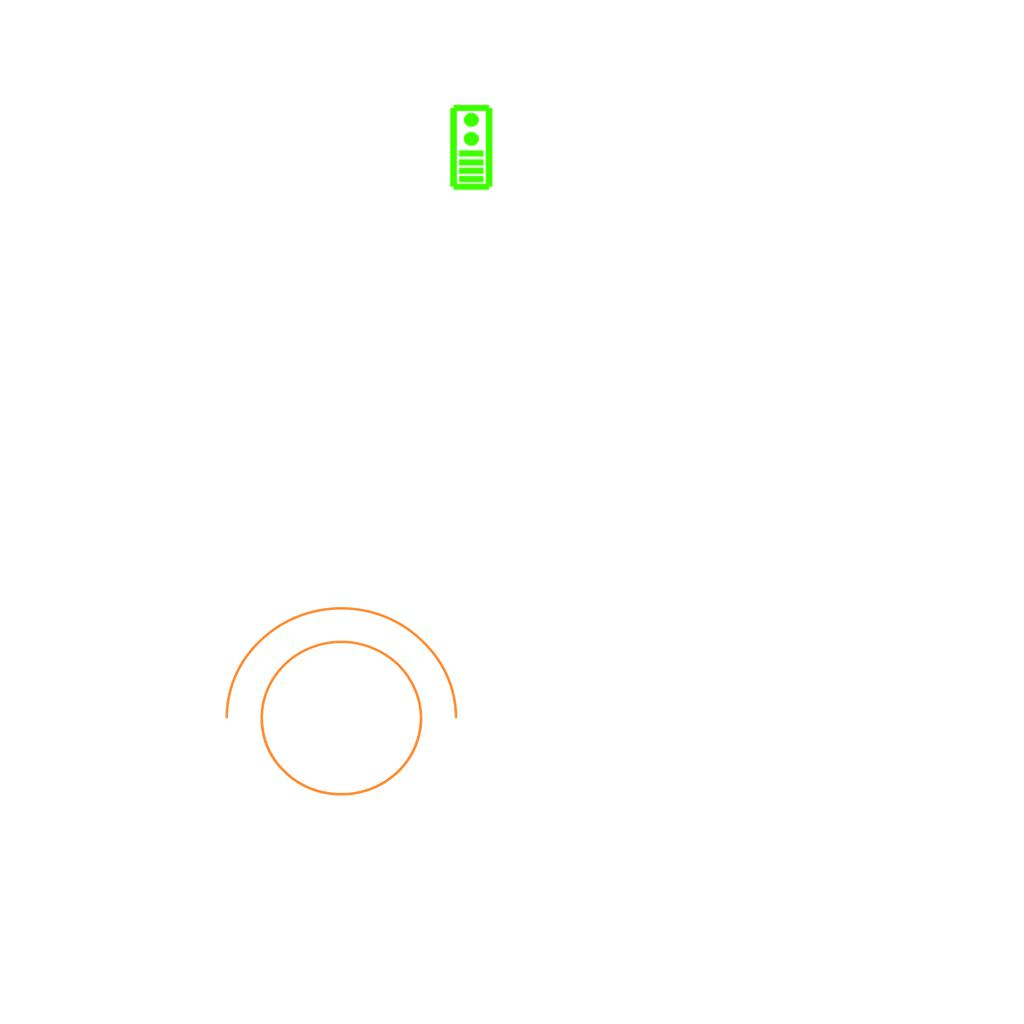Gegensprechanlage_mit_Video: (447, 103, 494, 191)
Scheinwerfer_fuer_Alarmbeleuchtung: (203, 596, 467, 821)
